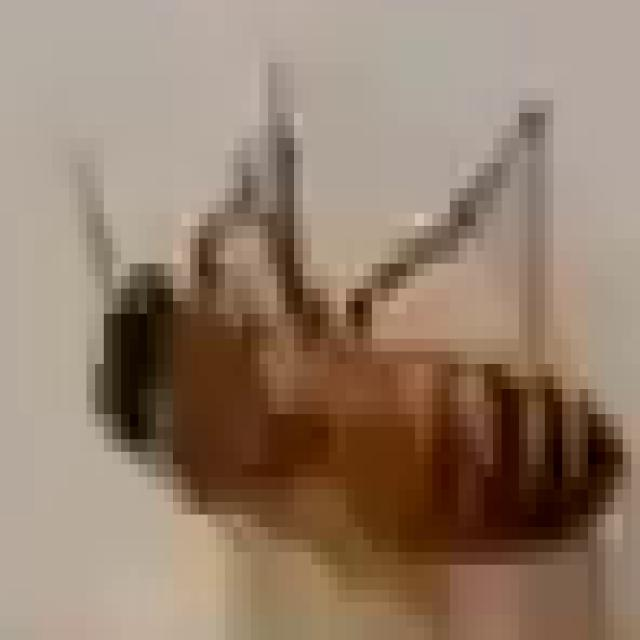honeybee: (91, 167, 619, 568)
